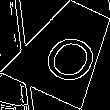O_NE: (30, 18, 100, 83)
